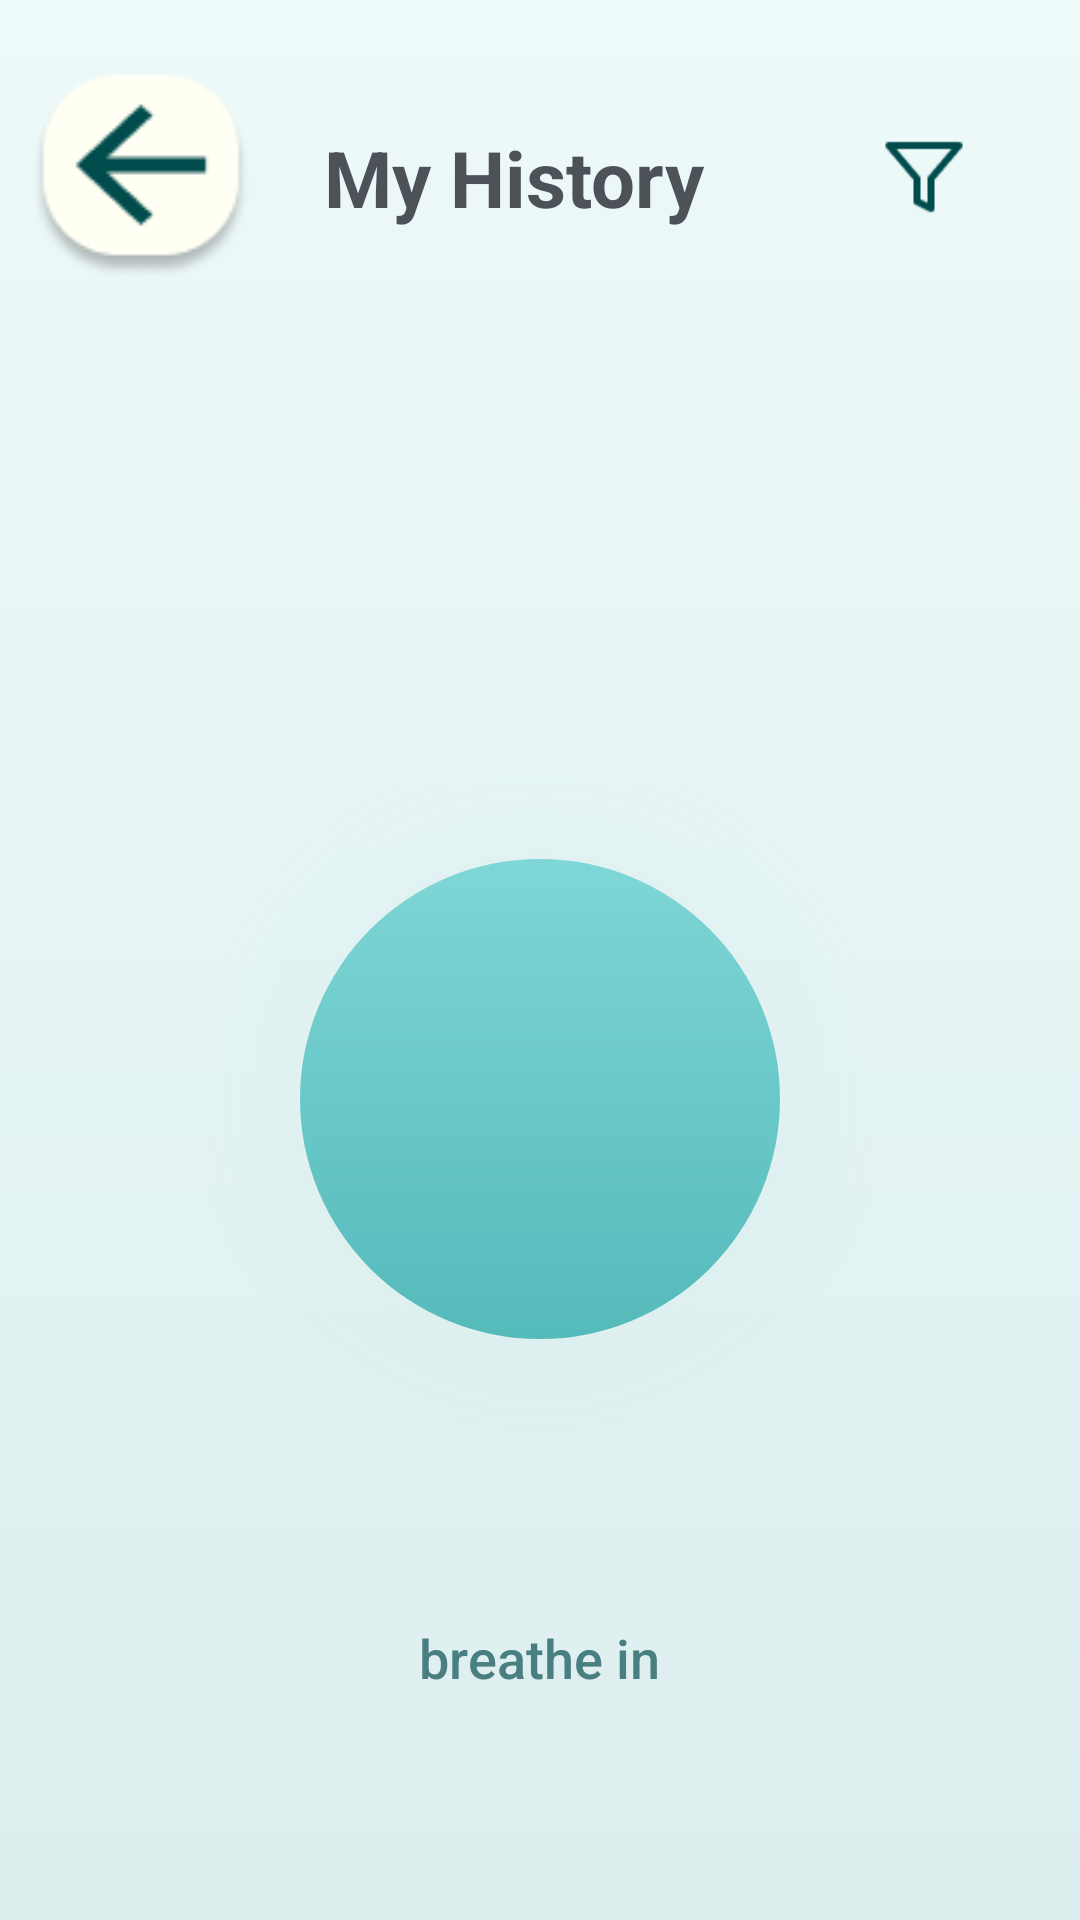

Named icons in this screenshot (1080 x 1920) and their bounding boxes, [left=x1, top=y1, right=x2, bottom=y2]:
Back: [left=37, top=75, right=245, bottom=274]
Filter history: [left=885, top=141, right=963, bottom=213]
